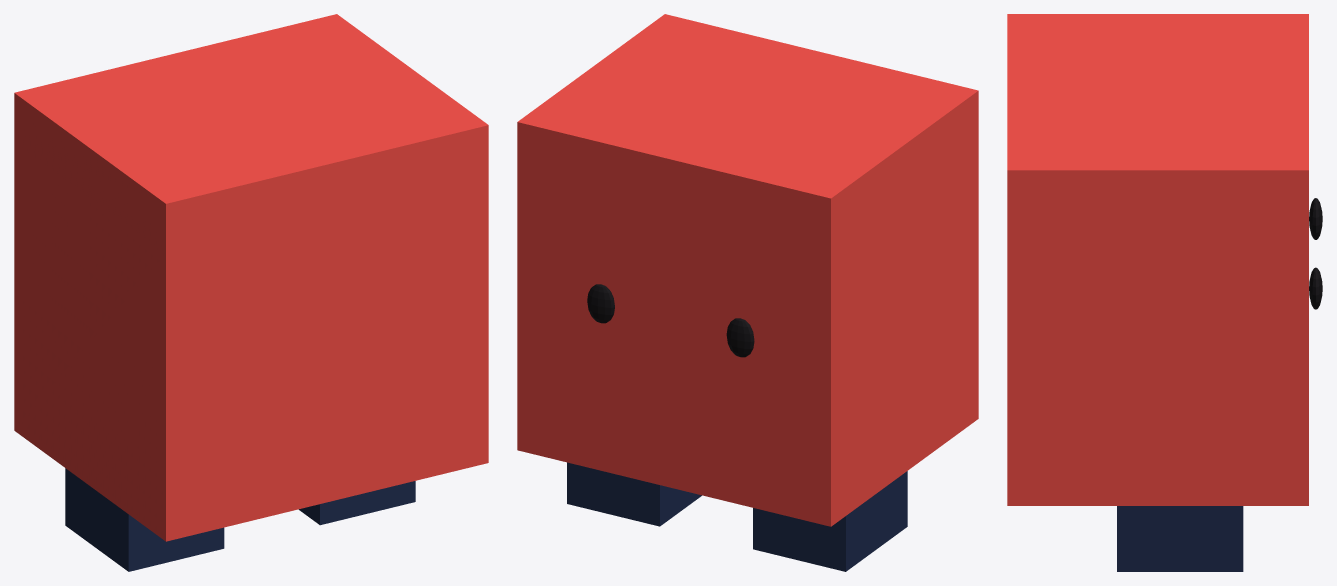
File: BlockBot_Enemy.obj
3 renders of one model, left to right at view 1: azimuth 30°, elevation 25°; view 2: azimuth 150°, elevation 25°; view 3: azimuth 270°, elevation 25°, orthographic. The views are drawn at different scales.
Visible parts, largest first — view 1: CubeBody, PlainTop, FootL, FootR; view 2: CubeBody, PlainTop, FootL, FootR, DotEyeL, DotEyeR; view 3: CubeBody, PlainTop, FootR, DotEyeL, DotEyeR.
Part boxes in pixels (<box>): CubeBody: <box>14,143,488,541</box>; PlainTop: <box>14,14,488,253</box>; FootL: <box>65,468,224,571</box>; FootR: <box>298,481,415,525</box>; CubeBody: <box>517,139,978,526</box>; PlainTop: <box>517,14,978,246</box>; FootL: <box>753,471,907,571</box>; FootR: <box>567,462,701,526</box>; DotEyeL: <box>726,318,754,357</box>; DotEyeR: <box>587,284,614,323</box>; CubeBody: <box>1007,220,1308,505</box>; PlainTop: <box>1007,14,1308,220</box>; FootR: <box>1117,506,1243,571</box>; DotEyeL: <box>1309,198,1322,239</box>; DotEyeR: <box>1309,267,1322,309</box>.
Size of the model in its own units: 1.35 by 1.65 by 1.15.
